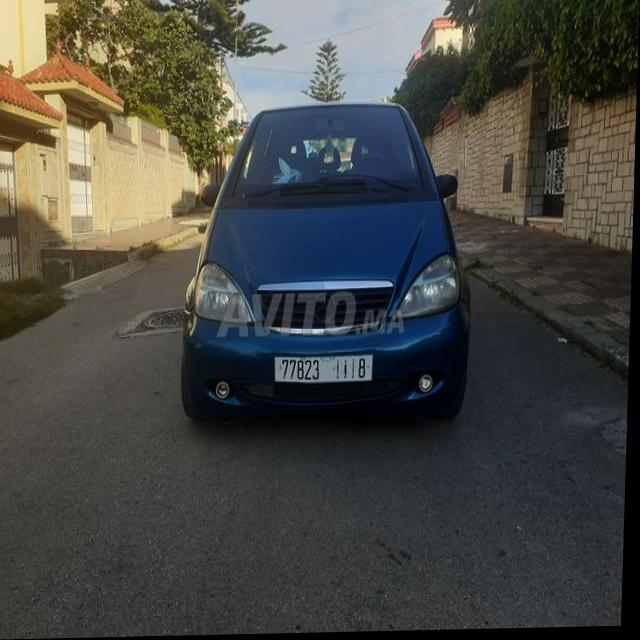License-Plate: (277, 357, 375, 383)
